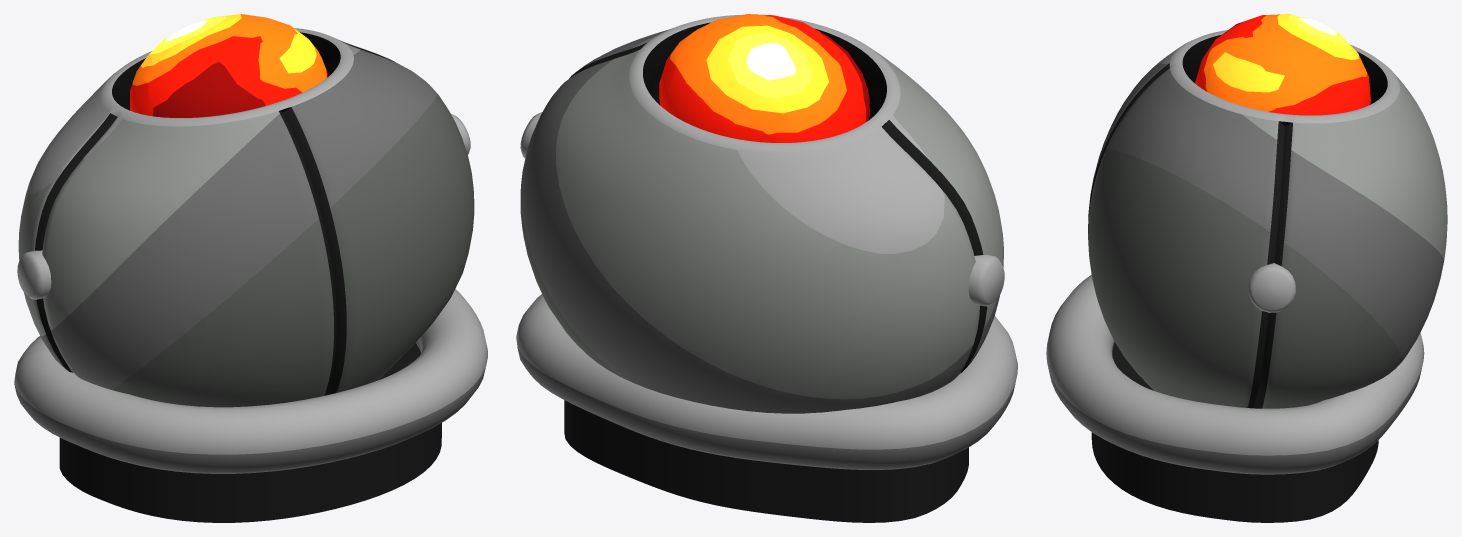
File: eye_orb_87.glb
The picture shows the model from 3 angles, left to right: view 1: azimuth 30°, elevation 25°; view 2: azimuth 150°, elevation 25°; view 3: azimuth 270°, elevation 25°; orthographic projection. The views are drawn at different scales.
Parts seen in each view (by area): view 1: shell, rim, foot, eye, boss-1; view 2: shell, rim, eye, foot, boss-1; view 3: shell, rim, eye, foot, boss1.
Part boxes in pixels (x1,y1,x2,y2): shell: [18, 28, 474, 407]; rim: [14, 289, 487, 473]; foot: [59, 343, 441, 522]; eye: [130, 14, 327, 117]; boss-1: [17, 250, 51, 299]; shell: [520, 15, 1003, 413]; rim: [516, 294, 1017, 469]; eye: [659, 14, 869, 142]; foot: [564, 400, 968, 522]; boss-1: [968, 254, 1004, 306]; shell: [1088, 30, 1447, 408]; rim: [1046, 275, 1424, 474]; eye: [1195, 14, 1370, 115]; foot: [1091, 342, 1378, 522]; boss1: [1248, 263, 1295, 312].
Bounding box in the file's own units: 22.03 × 19.91 × 17.65.
